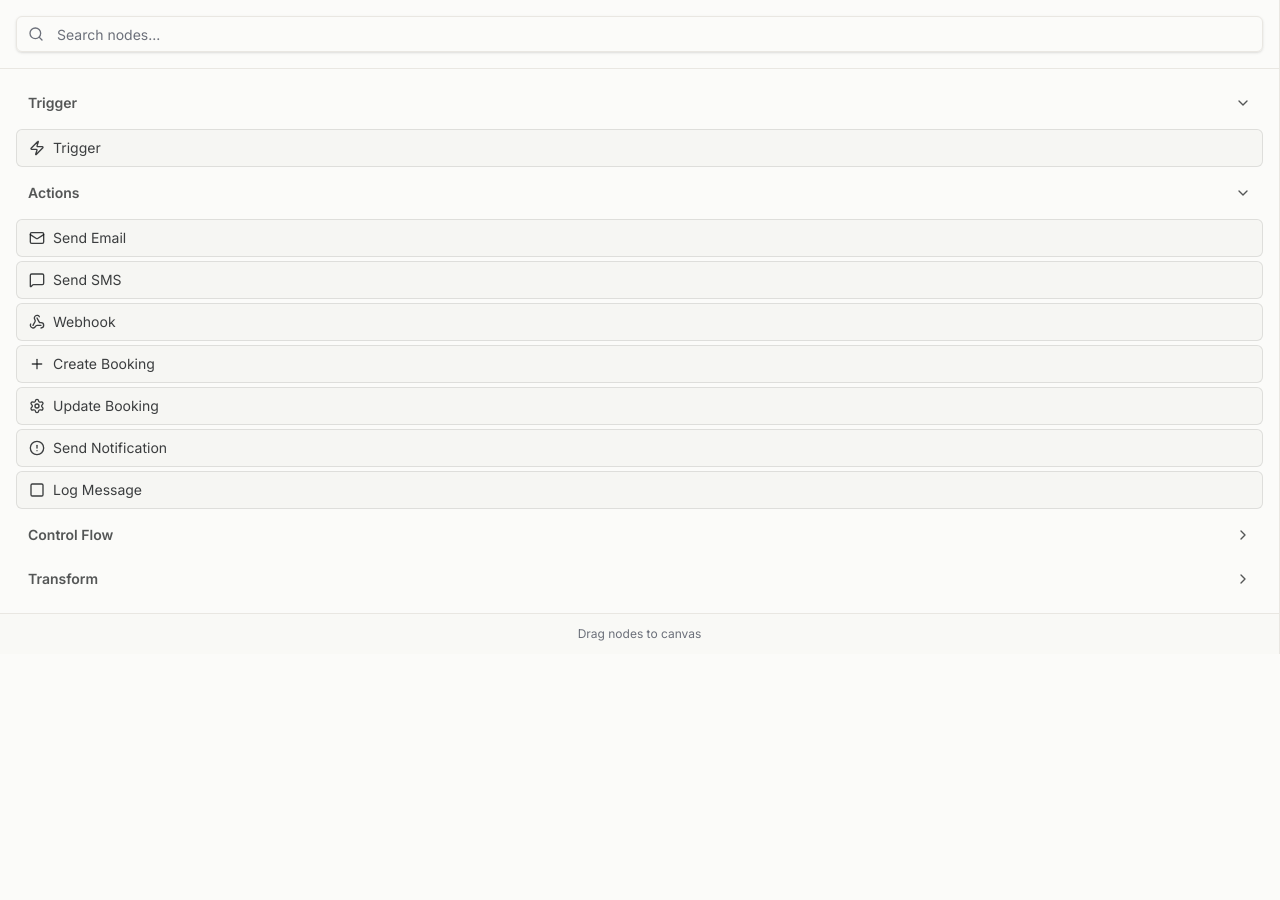
Test: NodePalette › toggles category expansion on click
The width and height of the screenshot is (1280, 900).
Expected: the text "Control Flow" is shown, [28,525,113,545]
Click the button "Control Flow".
click(71, 534)  # box [16,517,1263,553]
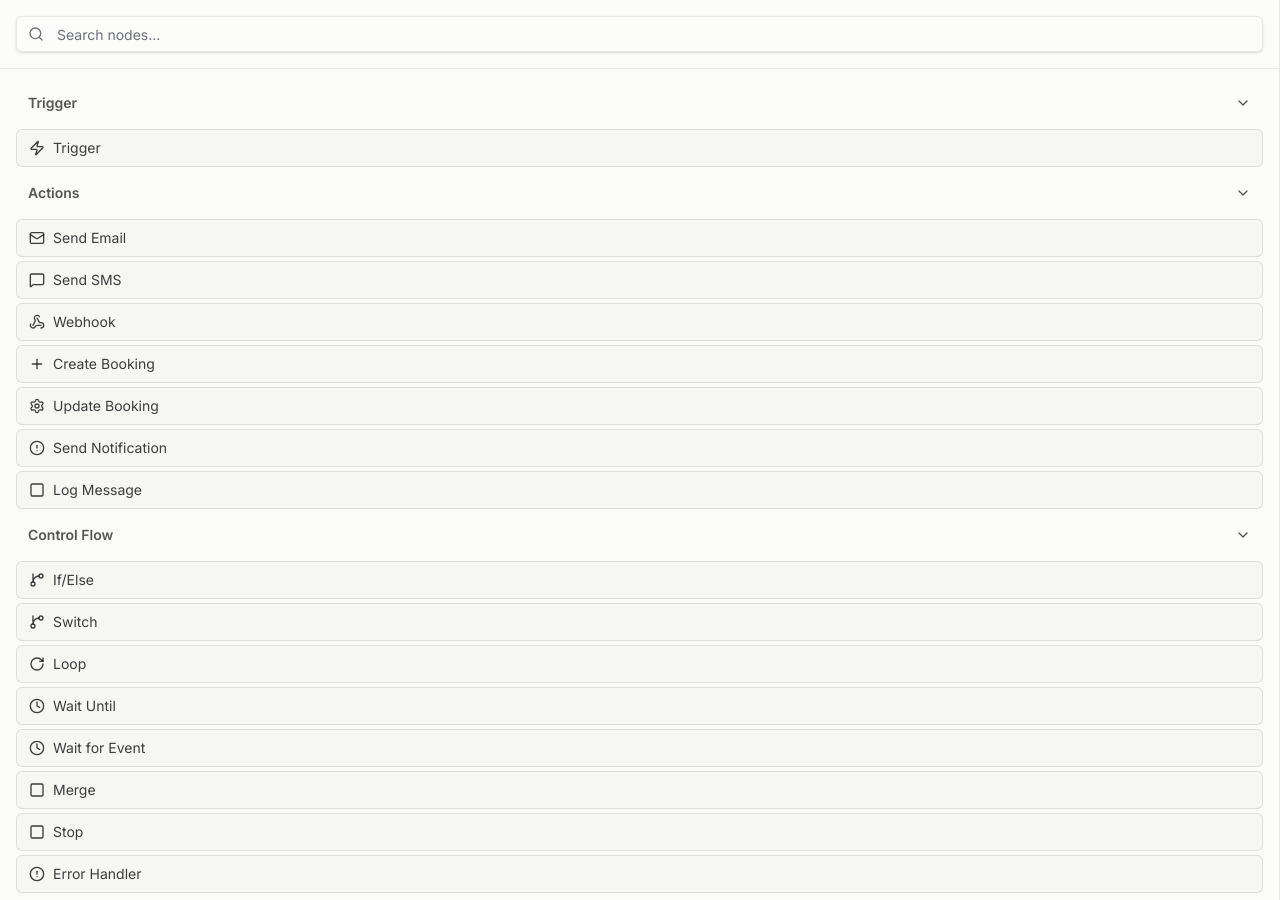
Now the text "If/Else" is shown, box [53,571,94,588]
